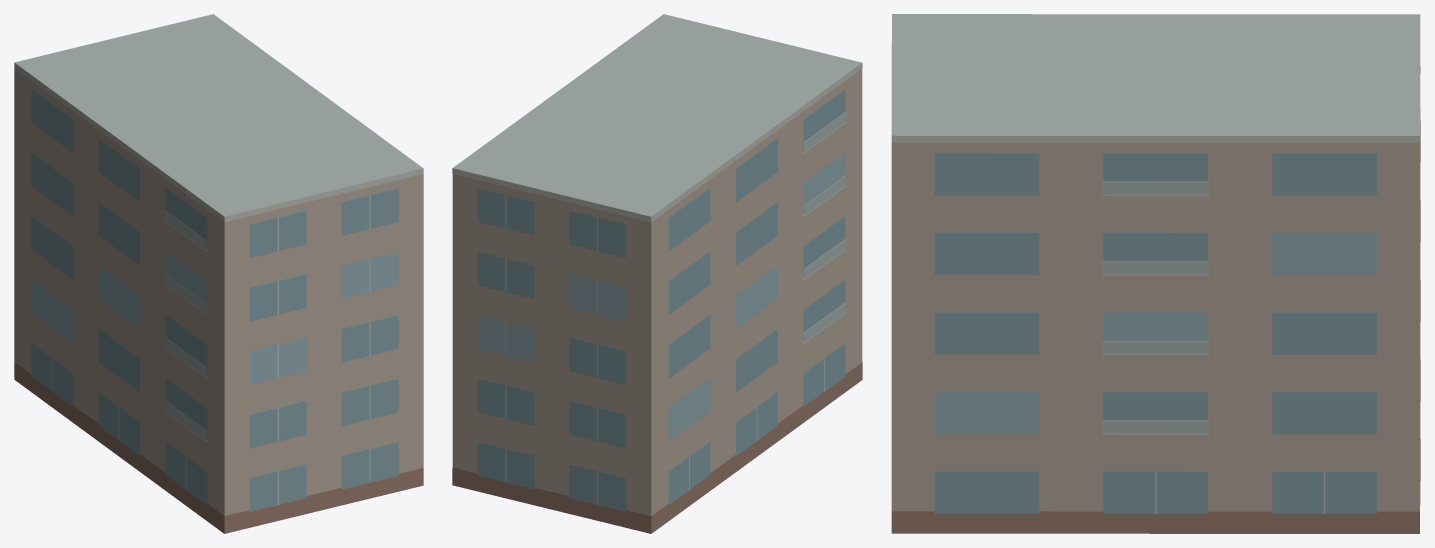
Rendered from survey-upis-32873208.glb.
The picture shows the model from 3 angles, left to right: view 1: azimuth 30°, elevation 25°; view 2: azimuth 150°, elevation 25°; view 3: azimuth 270°, elevation 25°; orthographic projection. The views are drawn at different scales.
Parts seen in each view (by area): view 1: survey-upis-32873208.tmp; view 2: survey-upis-32873208.tmp; view 3: survey-upis-32873208.tmp.
Part boxes in pixels (x1,y1,x2,y2): survey-upis-32873208.tmp: [14, 14, 423, 533]; survey-upis-32873208.tmp: [452, 14, 862, 533]; survey-upis-32873208.tmp: [891, 14, 1420, 533].
Size of the model in its own units: 9.15 by 13.8 by 16.65.
